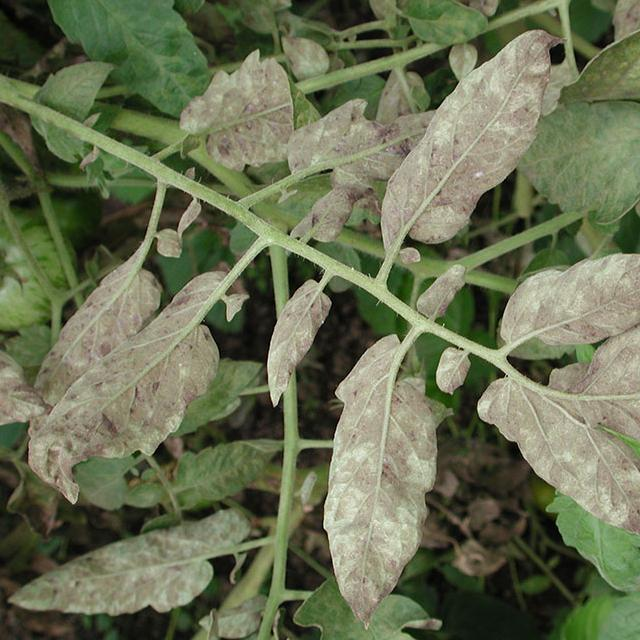Tomato mold leaf: (45, 0, 207, 107), (520, 108, 640, 227)
